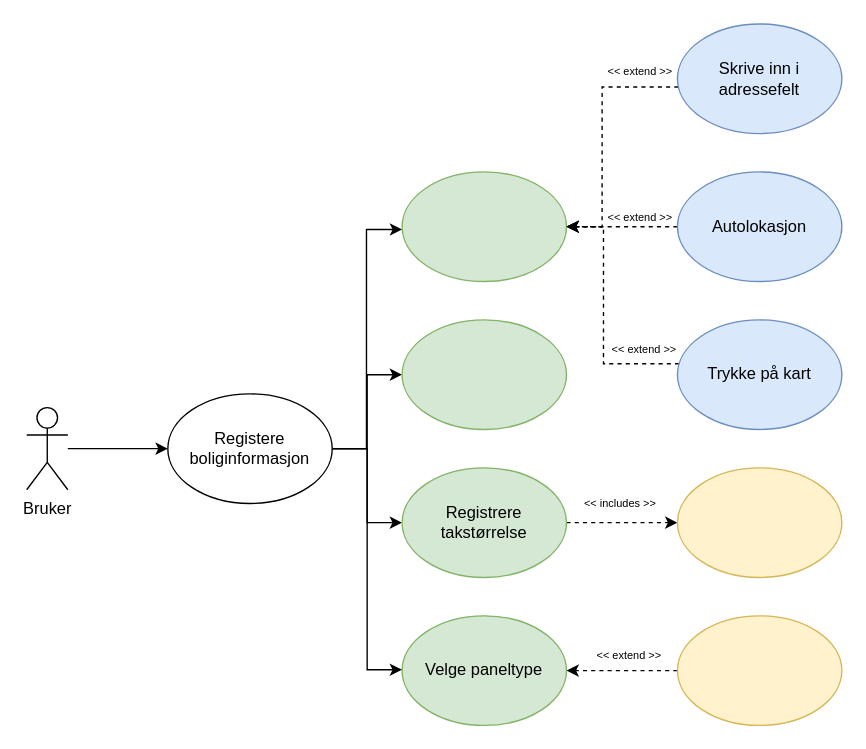
The diagram is 866 pixels wide and 749 high, and some of its shapes have lost their labels. Each missing label, with the centre of its shape:
Registrere forventet årlig strømforbruk: pixel 483 374
Se automatisk hentet takstørrelse: pixel 759 521
Se informasjon om paneltypene: pixel 759 669
Velge adresse: pixel 483 226
